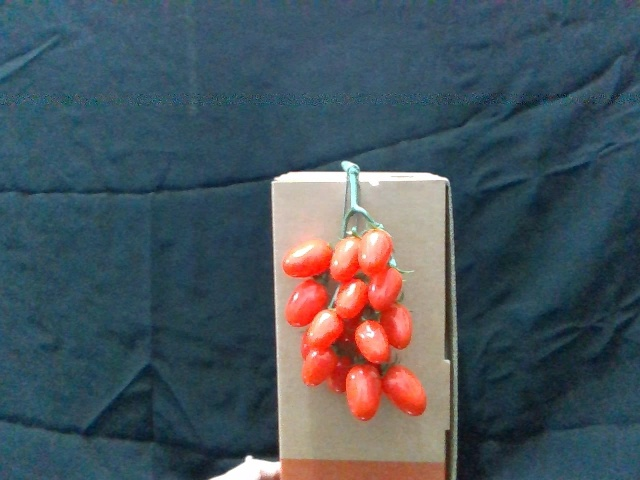tomato: (382, 364, 431, 419), (345, 364, 382, 424), (285, 279, 329, 326), (283, 239, 333, 280), (353, 318, 393, 369), (367, 266, 405, 312), (309, 308, 346, 354), (337, 277, 373, 322), (360, 230, 395, 276), (380, 303, 414, 350), (331, 235, 363, 284), (302, 349, 339, 389)
